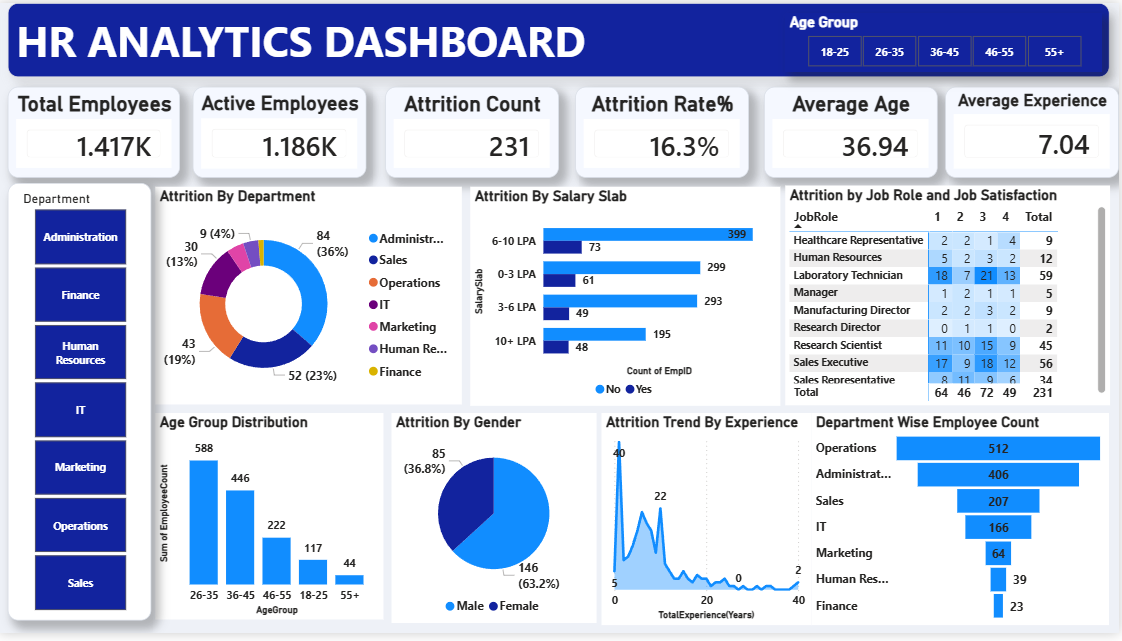

The dashboard page shown, as its layout file describes it:
{"tool":"powerbi","page":{"name":"Dashboard","canvas":[1280,720],"ordinal":0},"visuals":[{"type":"textbox","box":[10,0,1259,85],"z":0},{"type":"cardVisual","title":"Total Employees","fields":{"Data":["CountNonNull(HR_Analytics-4.EmpID)"]},"box":[10,95,197,104],"z":1000},{"type":"cardVisual","title":"Active Employees","fields":{"Data":["CountNonNull(HR_Analytics-4.EmployeeCount)"]},"box":[222,96,198,104],"z":2000},{"type":"cardVisual","title":"Attrition Count","fields":{"Data":["Sum(HR_Analytics-4.AttritionCount)"]},"box":[442,96,198,104],"z":3000},{"type":"cardVisual","title":"Attrition Rate%","fields":{"Data":["HR_Analytics-4.Attrition Rate %"]},"box":[658,96,198,104],"z":4000},{"type":"cardVisual","title":"Average Age","fields":{"Data":["Avg(HR_Analytics-4.Age)"]},"box":[874,96,198,104],"z":5000},{"type":"cardVisual","title":"Average Experience","fields":{"Data":["Avg(HR_Analytics-4.YearsatCompany)"]},"box":[1082,96,198,104],"z":6000},{"type":"donutChart","title":"Attrition By Department","fields":{"Category":["HR_Analytics-4.Department"],"Y":["Sum(HR_Analytics-4.AttritionCount)"]},"box":[179,210,350,249],"z":7000},{"type":"clusteredBarChart","title":"Attrition By Salary Slab","fields":{"Category":["HR_Analytics-4.SalarySlab"],"Y":["CountNonNull(HR_Analytics-4.EmpID)"],"Series":["HR_Analytics-4.Attrition"]},"box":[538,210,354,250],"z":8000},{"type":"pivotTable","title":"Attrition by Job Role and Job Satisfaction","fields":{"Rows":["HR_Analytics-4.JobRole"],"Values":["Sum(HR_Analytics-4.AttritionCount)"],"Columns":["HR_Analytics-4.JobSatisfaction"]},"box":[898,209,371,251],"z":9000},{"type":"columnChart","title":"Age Group Distribution","fields":{"Category":["HR_Analytics-4.AgeGroup"],"Y":["Sum(HR_Analytics-4.EmployeeCount)"]},"box":[179,469,261,236],"z":10000},{"type":"pieChart","title":"Attrition By Gender","fields":{"Category":["HR_Analytics-4.Gender"],"Y":["Sum(HR_Analytics-4.AttritionCount)"],"Series":["HR_Analytics-4.AttritionCount"]},"box":[448,469,234,240],"z":11000},{"type":"areaChart","title":"Attrition Trend By Experience","fields":{"Category":["HR_Analytics-4.TotalExperience(Years)"],"Y2":["Sum(HR_Analytics-4.AttritionCount)"]},"box":[689,469,240,242],"z":12000},{"type":"funnel","title":"Department Wise Employee Count","fields":{"Category":["HR_Analytics-4.Department"],"Y":["CountNonNull(HR_Analytics-4.EmpID)"]},"box":[929,469,340,242],"z":13000},{"type":"slicer","fields":{"Values":["HR_Analytics-4.Department"]},"box":[10,206,164,500],"z":14000},{"type":"slicer","title":"Age Group","fields":{"Values":["HR_Analytics-4.AgeGroup"]},"box":[898,12,362,68],"z":15000}]}

Visuals, with their boxes in screenshot pixels (x1, y1, x2, y2), scaled from the page's 1280x720 canvas onto the 1122x641 screenshot:
textbox: {"x1": 9, "y1": 0, "x2": 1112, "y2": 76}
"Total Employees" cardVisual: {"x1": 9, "y1": 85, "x2": 181, "y2": 177}
"Active Employees" cardVisual: {"x1": 195, "y1": 85, "x2": 368, "y2": 178}
"Attrition Count" cardVisual: {"x1": 387, "y1": 85, "x2": 561, "y2": 178}
"Attrition Rate%" cardVisual: {"x1": 577, "y1": 85, "x2": 750, "y2": 178}
"Average Age" cardVisual: {"x1": 766, "y1": 85, "x2": 940, "y2": 178}
"Average Experience" cardVisual: {"x1": 948, "y1": 85, "x2": 1121, "y2": 178}
"Attrition By Department" donutChart: {"x1": 157, "y1": 187, "x2": 464, "y2": 409}
"Attrition By Salary Slab" clusteredBarChart: {"x1": 472, "y1": 187, "x2": 782, "y2": 410}
"Attrition by Job Role and Job Satisfaction" pivotTable: {"x1": 787, "y1": 186, "x2": 1112, "y2": 410}
"Age Group Distribution" columnChart: {"x1": 157, "y1": 418, "x2": 386, "y2": 628}
"Attrition By Gender" pieChart: {"x1": 393, "y1": 418, "x2": 598, "y2": 631}
"Attrition Trend By Experience" areaChart: {"x1": 604, "y1": 418, "x2": 814, "y2": 633}
"Department Wise Employee Count" funnel: {"x1": 814, "y1": 418, "x2": 1112, "y2": 633}
slicer - HR_Analytics-4.Department: {"x1": 9, "y1": 183, "x2": 153, "y2": 629}
"Age Group" slicer: {"x1": 787, "y1": 11, "x2": 1104, "y2": 71}
